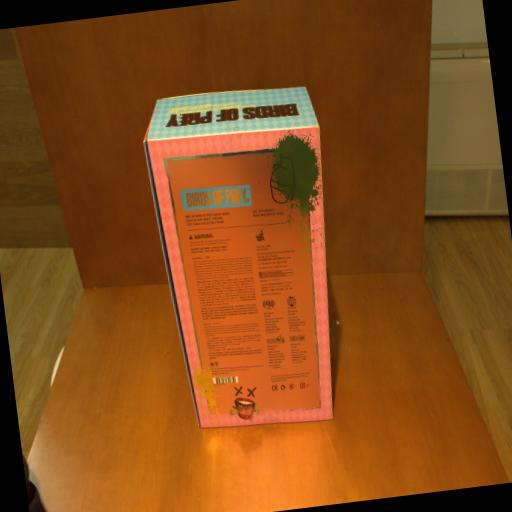Harley: (139, 76, 356, 439)
